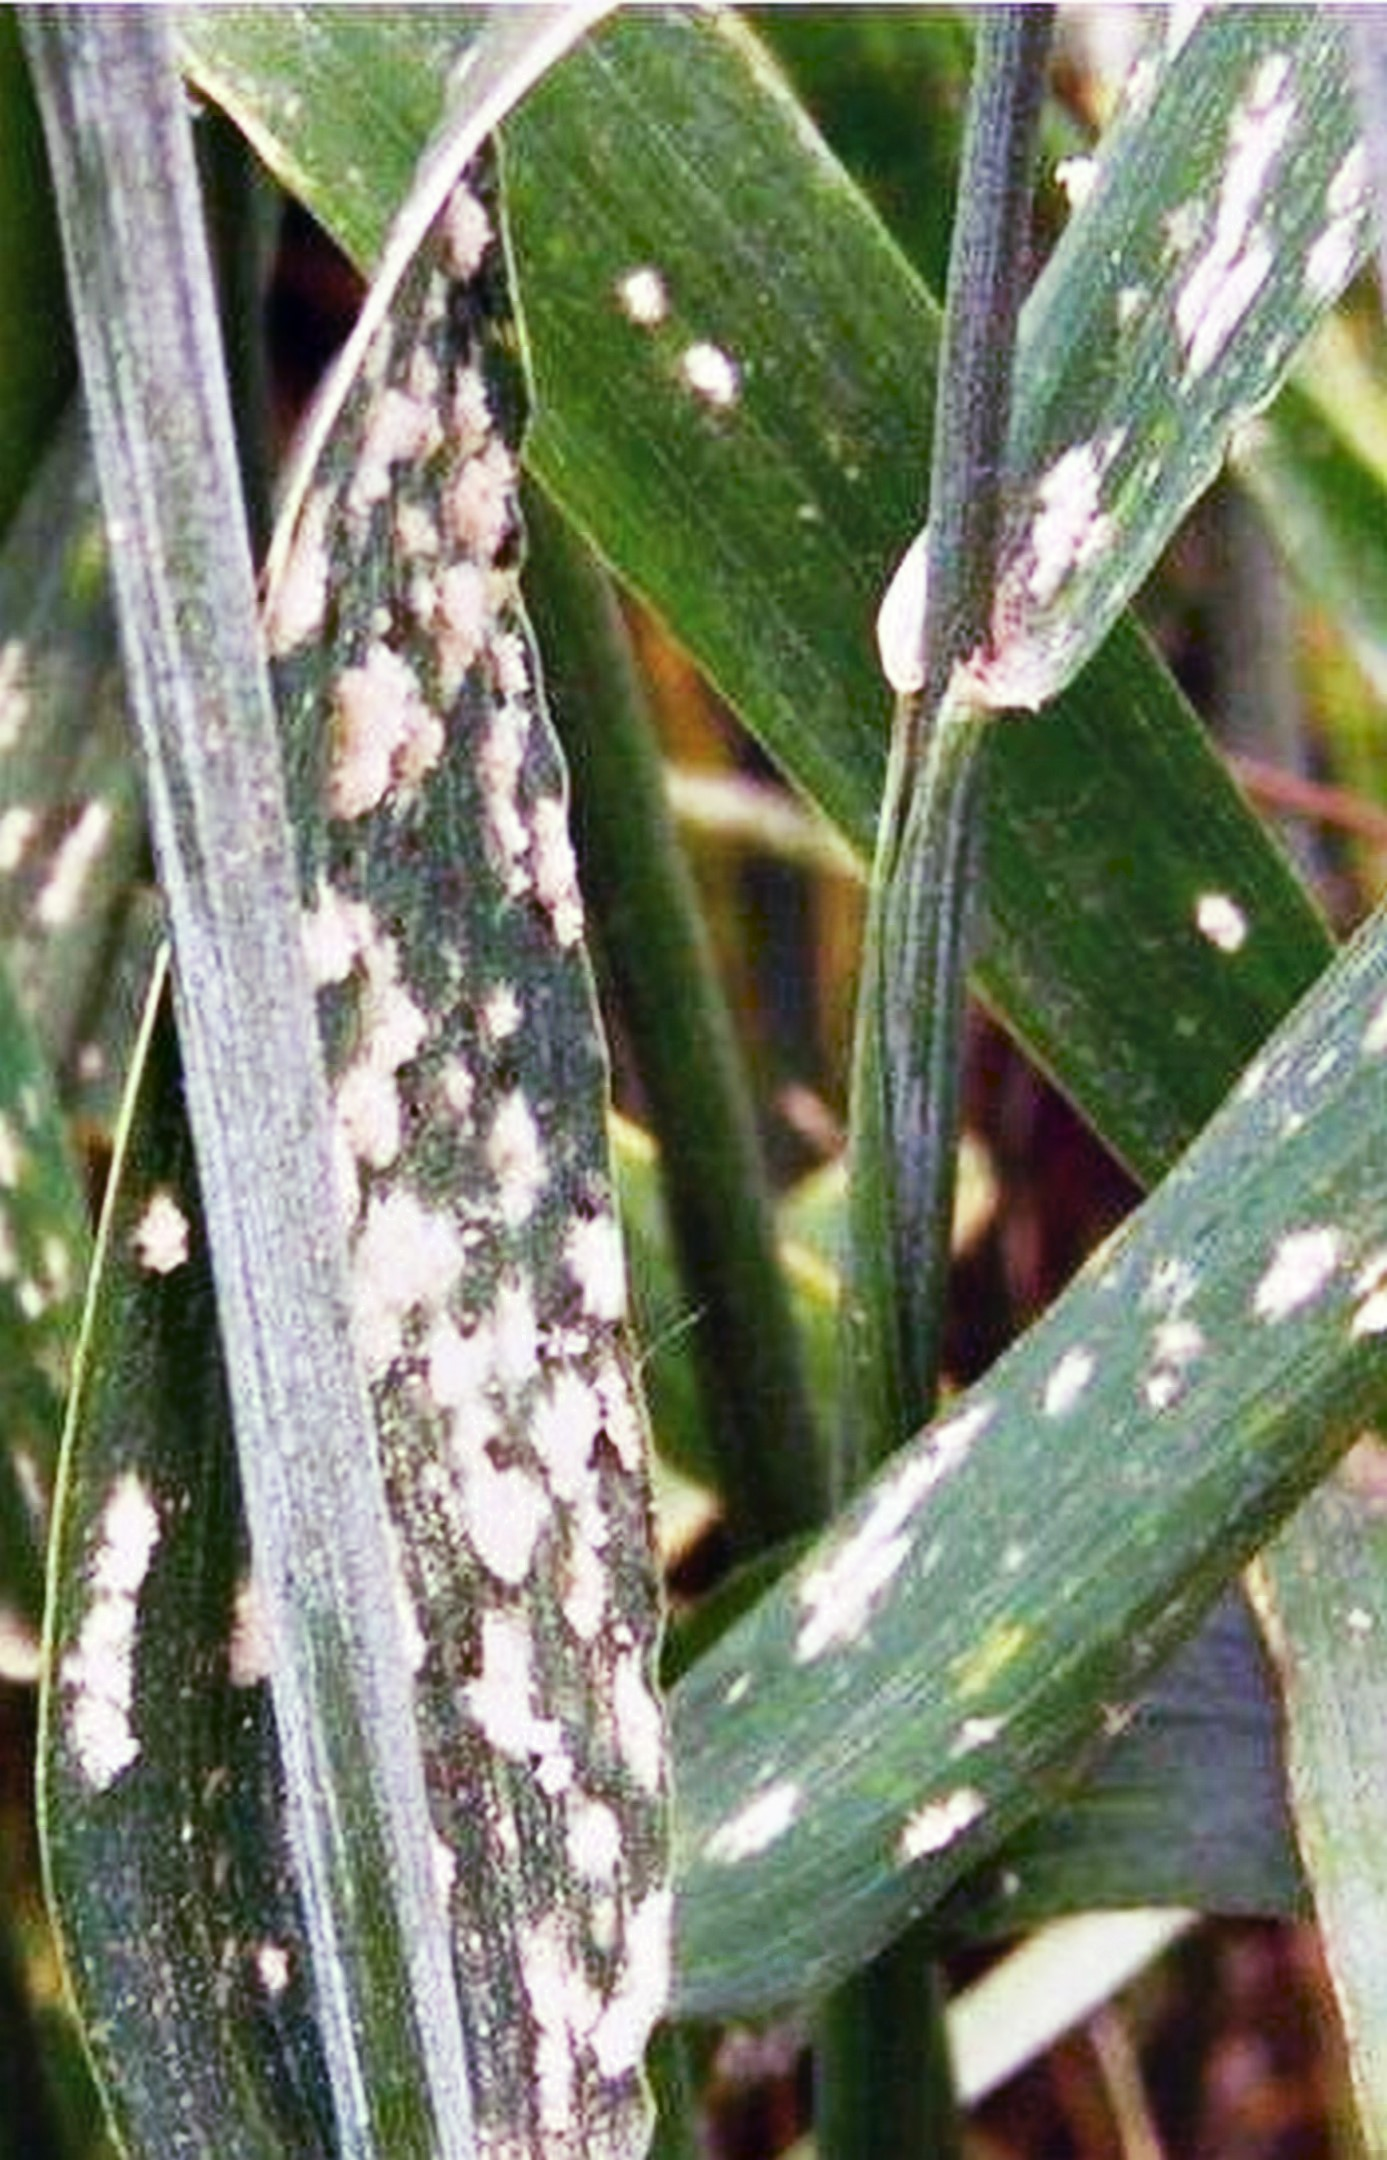Powdery Mildew: (194, 419, 710, 1952)
